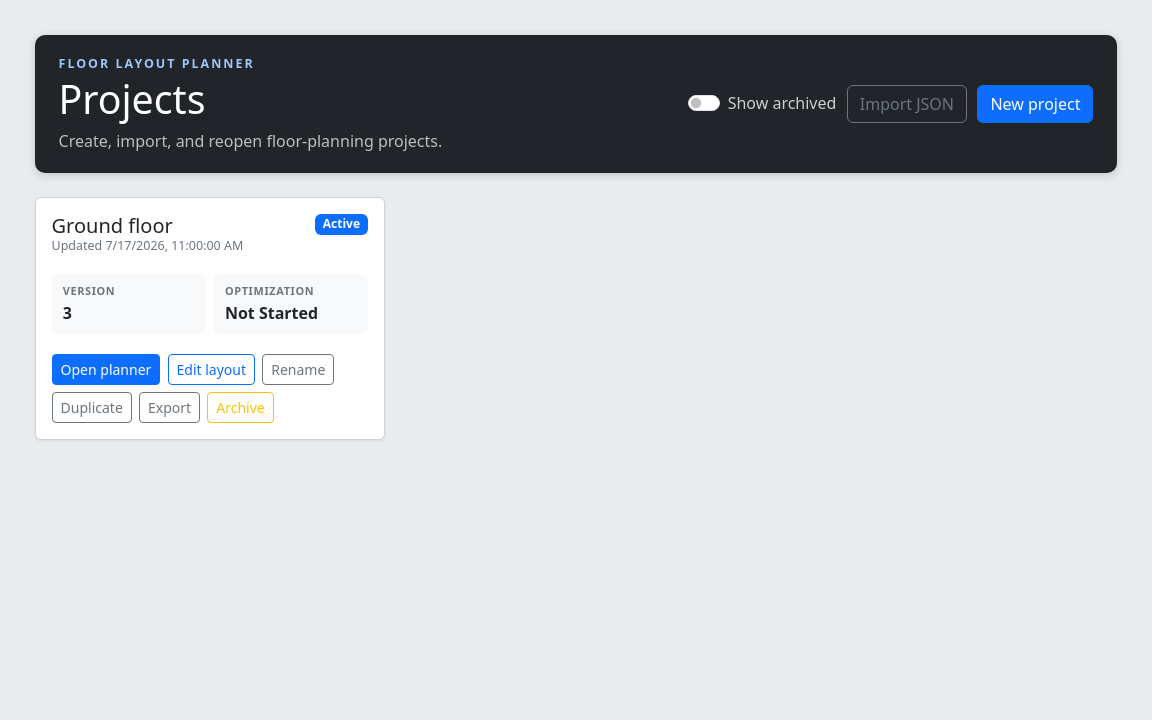
project dashboard › creates a named project and refreshes the list
Expected: the text "Ground floor" is shown, 52,212 -> 173,239
Click the button "New project". click: x=1035, y=104
box: 977,85 -> 1093,123
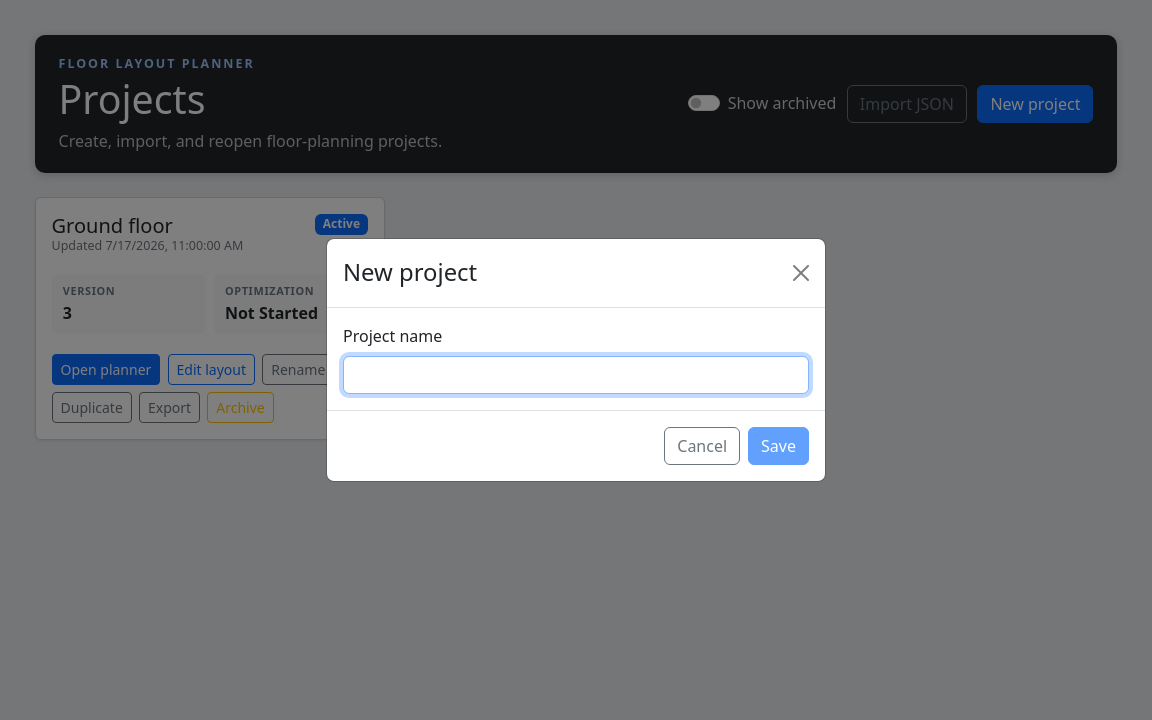
Type "Upstairs" into the field labelled "Project name". click: x=576, y=375
box: 343,356 -> 809,394
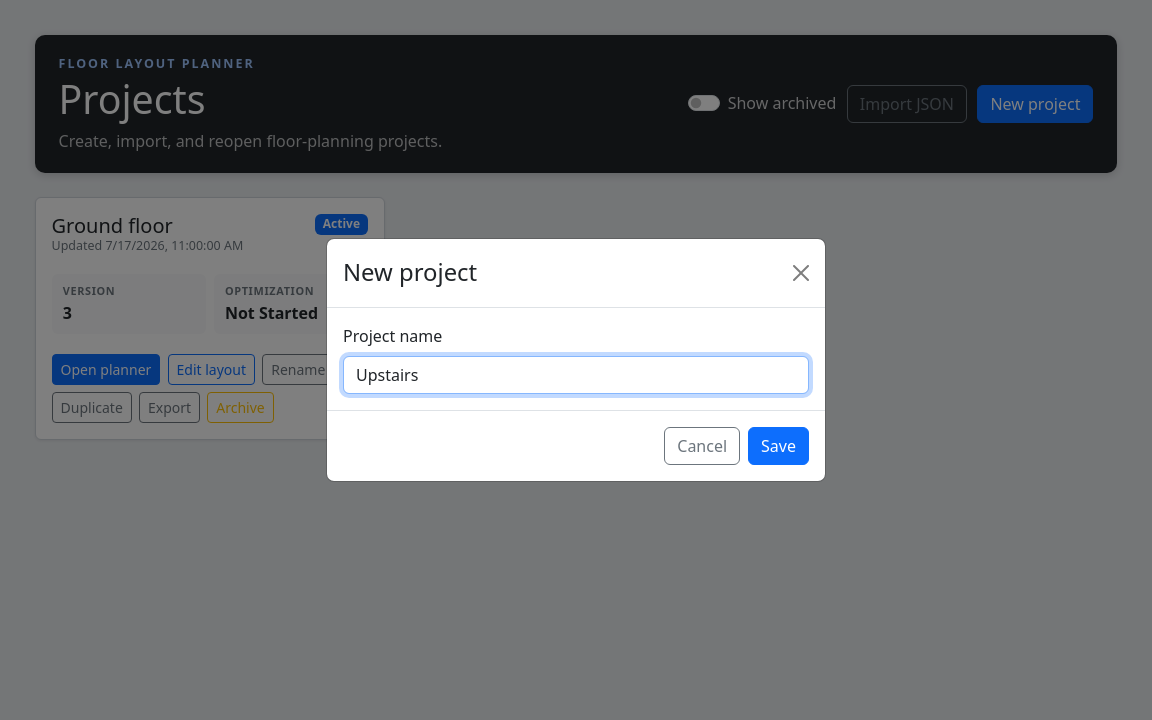
Click the button "Save". click: x=779, y=446
box: 748,427 -> 809,465
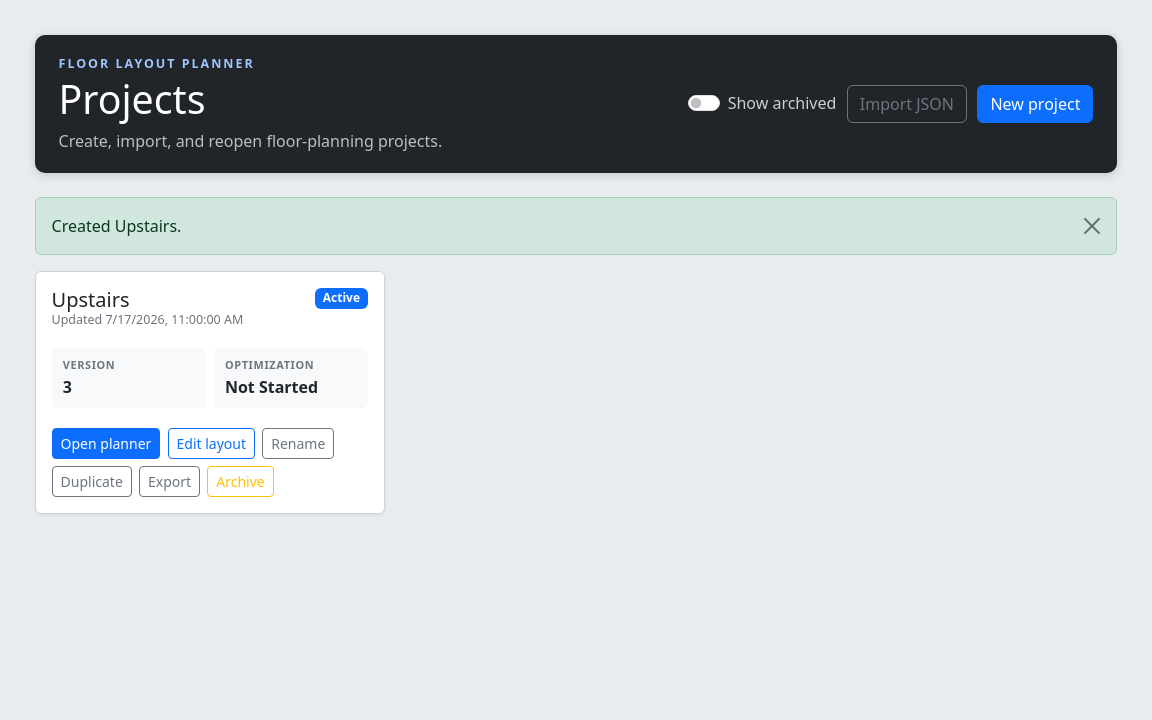
Expected: the text "Created Upstairs." is shown, 34,197 -> 1117,255
